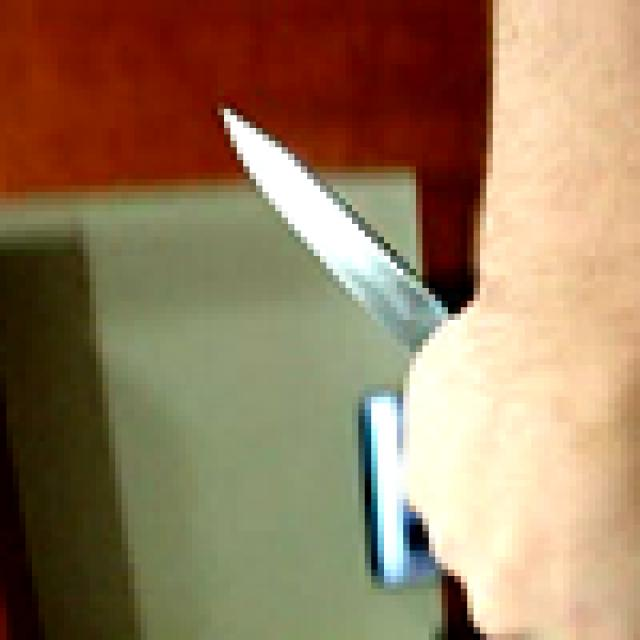weapon: (211, 90, 467, 390)
